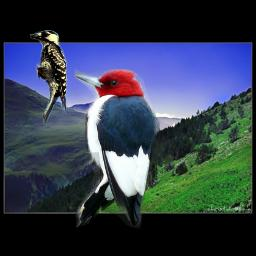Woodpecker: (74, 64, 160, 232), (29, 30, 69, 125)
